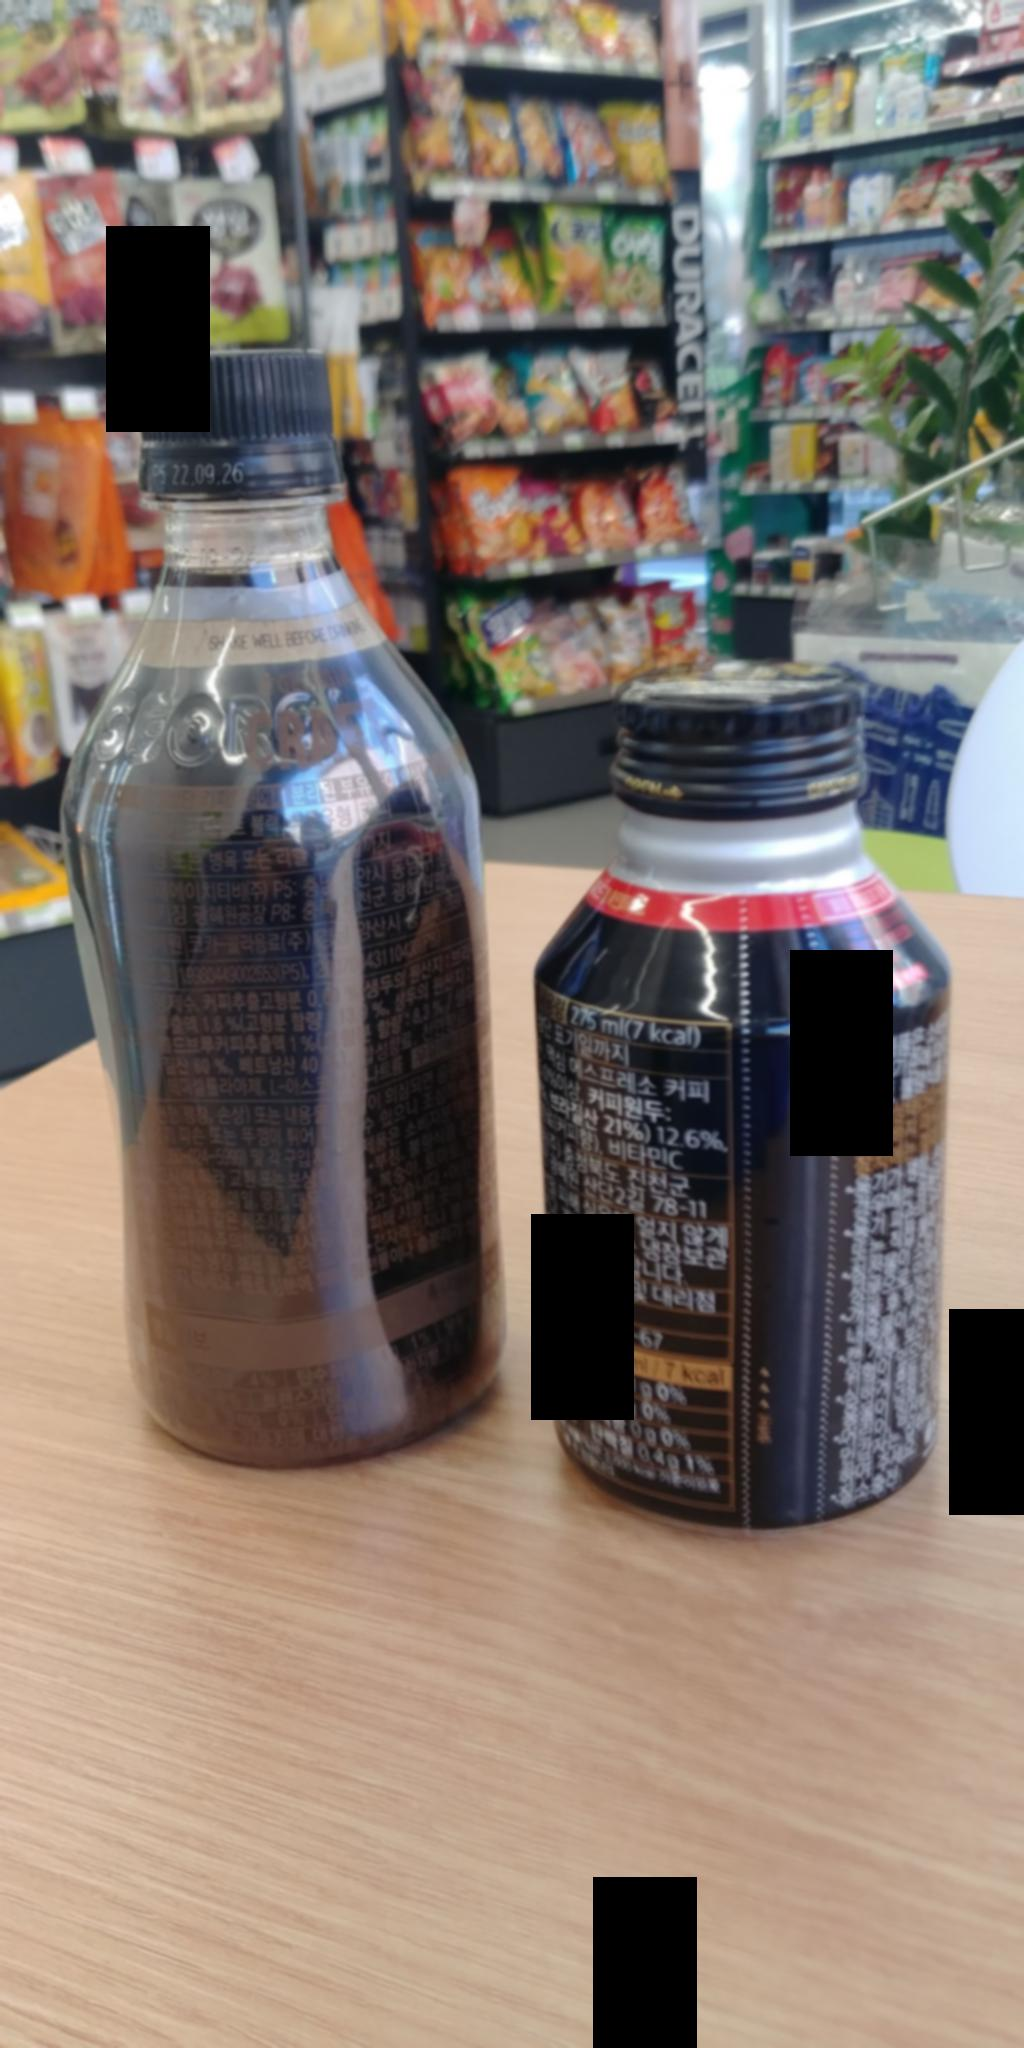TOP_black: (508, 670, 977, 1561)
georgiacraft_black: (51, 325, 509, 1479)
